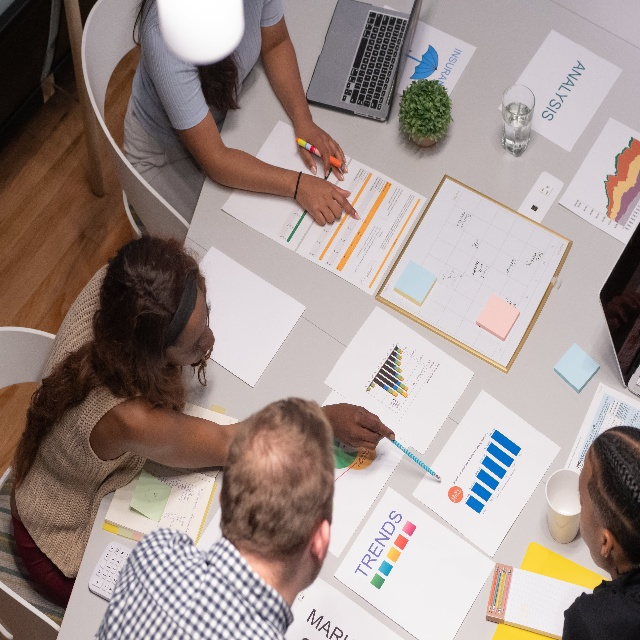Sin_guantes: (295, 173, 359, 227), (295, 119, 349, 182), (328, 404, 396, 451)
